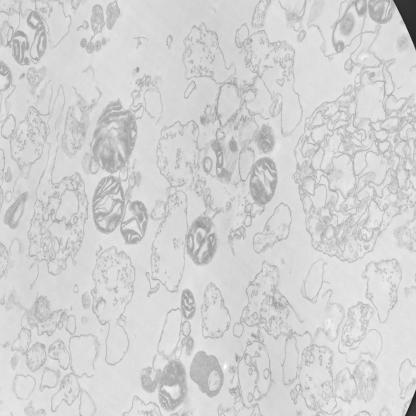mitochondria: (90, 97, 140, 176), (153, 352, 189, 416), (90, 172, 127, 234), (182, 211, 218, 266), (246, 155, 278, 206), (119, 200, 151, 248), (27, 6, 51, 68), (9, 25, 34, 74), (178, 281, 199, 323)
